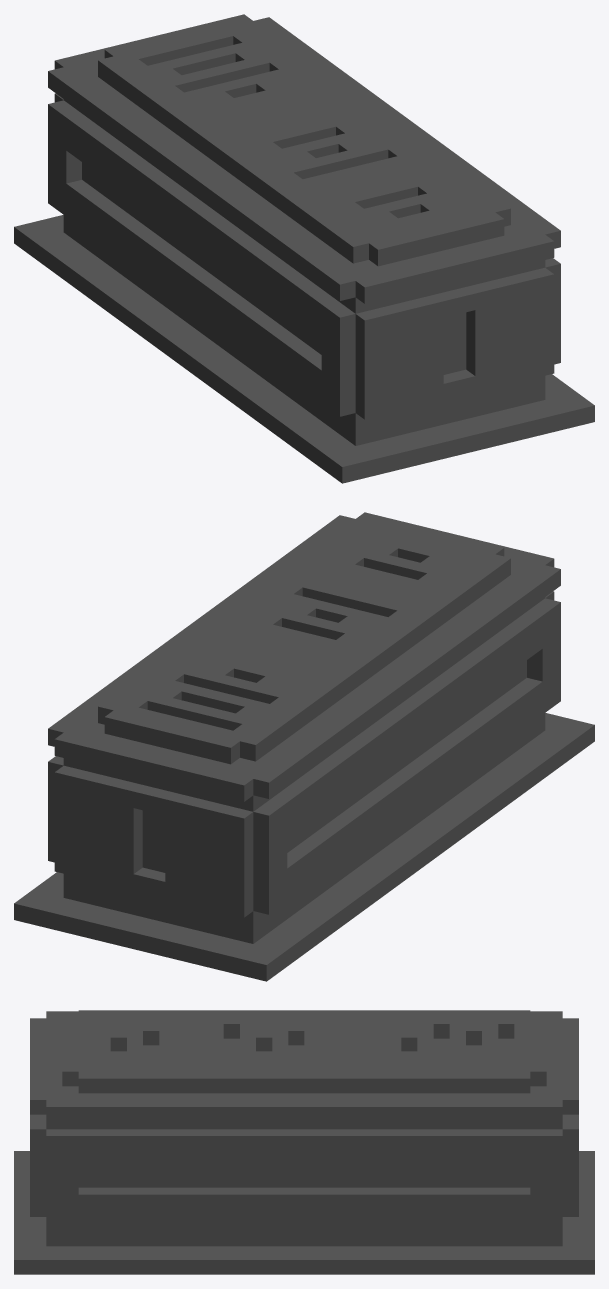
The model's file is Tumba 02.obj.
3 renders of one model, top to bottom at view 1: azimuth 30°, elevation 25°; view 2: azimuth 150°, elevation 25°; view 3: azimuth 270°, elevation 25°, orthographic. The views are drawn at different scales.
Bounding box in the file's own units: 1.6 × 1.2 × 3.6.
Materials: 1 (1 with a texture image).
